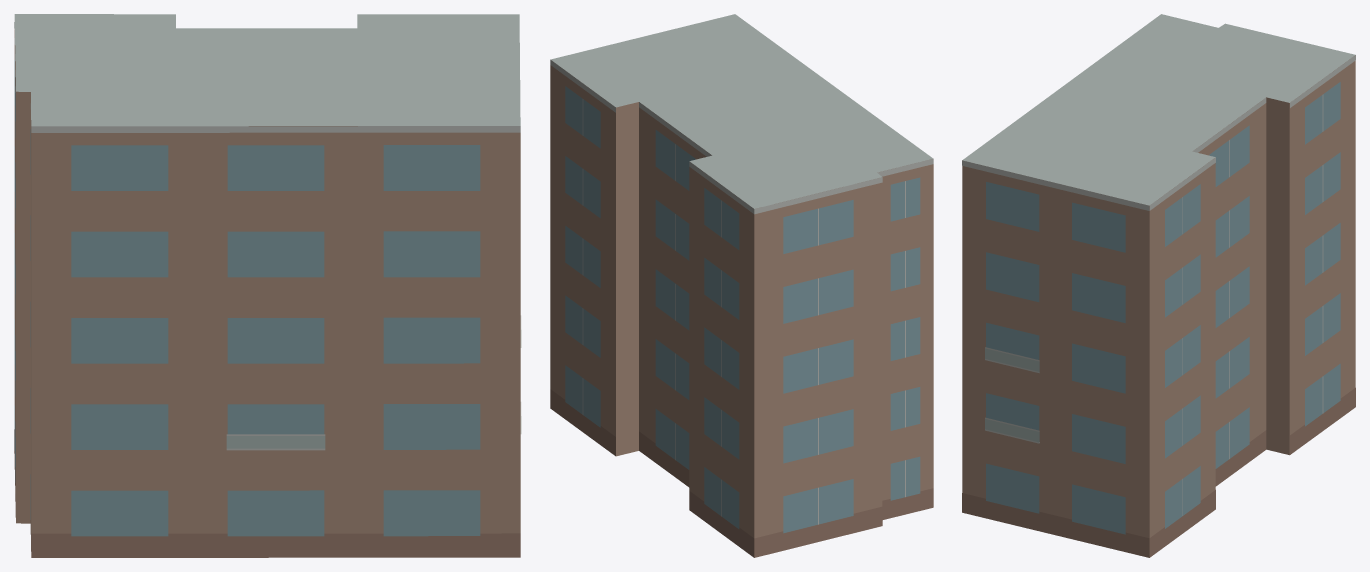
Rendered from survey-upis-33009082.glb.
The picture shows the model from 3 angles, left to right: view 1: azimuth 30°, elevation 25°; view 2: azimuth 150°, elevation 25°; view 3: azimuth 270°, elevation 25°; orthographic projection. The views are drawn at different scales.
Visible parts, largest first — view 1: survey-upis-33009082.tmp; view 2: survey-upis-33009082.tmp; view 3: survey-upis-33009082.tmp.
Part boxes in pixels (x1,y1,x2,y2): survey-upis-33009082.tmp: (14,14,521,557); survey-upis-33009082.tmp: (550,14,933,557); survey-upis-33009082.tmp: (962,14,1355,557).
Size of the model in its own units: 18.38 by 15.75 by 15.96.
